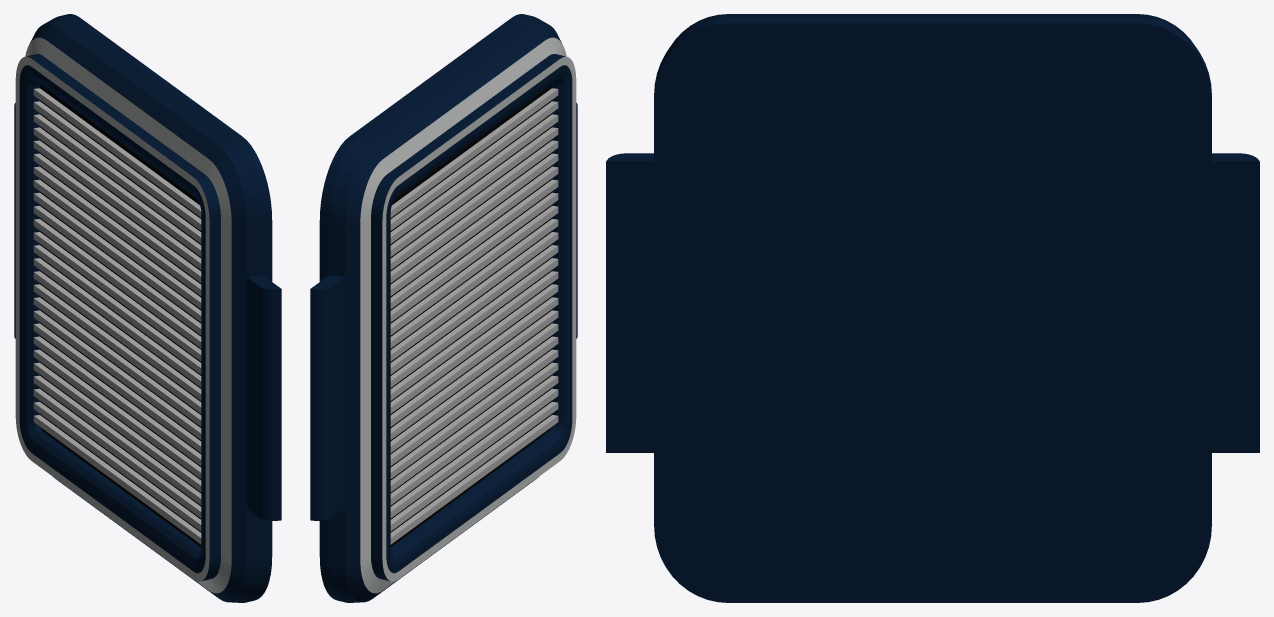
File: Vent.fbx
3 renders of one model, left to right at view 1: azimuth 30°, elevation 25°; view 2: azimuth 150°, elevation 25°; view 3: azimuth 270°, elevation 25°, orthographic. The views are drawn at different scales.
Parts seen in each view (by area): view 1: Vent; view 2: Vent; view 3: Vent.
Part boxes in pixels (<box>): Vent: <box>14,14,281,602</box>; Vent: <box>310,14,577,602</box>; Vent: <box>606,14,1259,602</box>.
Bounding box in the file's own units: 22.14 × 200 × 204.
